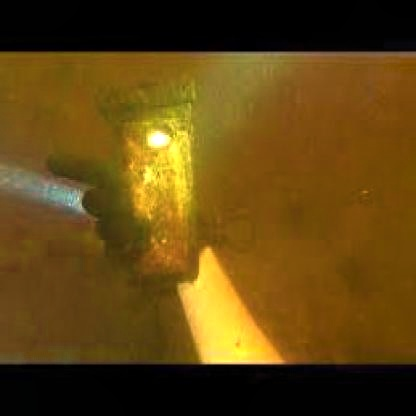cellphone: (120, 109, 196, 279)
